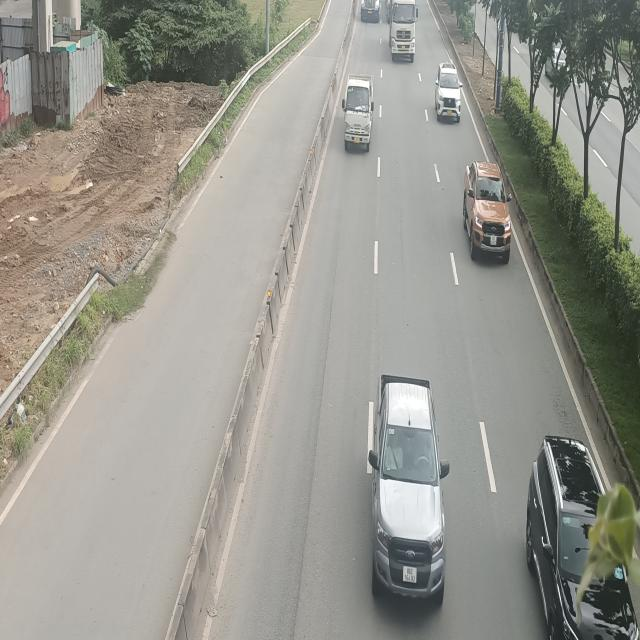car: (368, 372, 451, 602), (466, 161, 514, 260), (434, 65, 461, 122)
truck: (342, 72, 374, 150), (389, 0, 420, 60)
